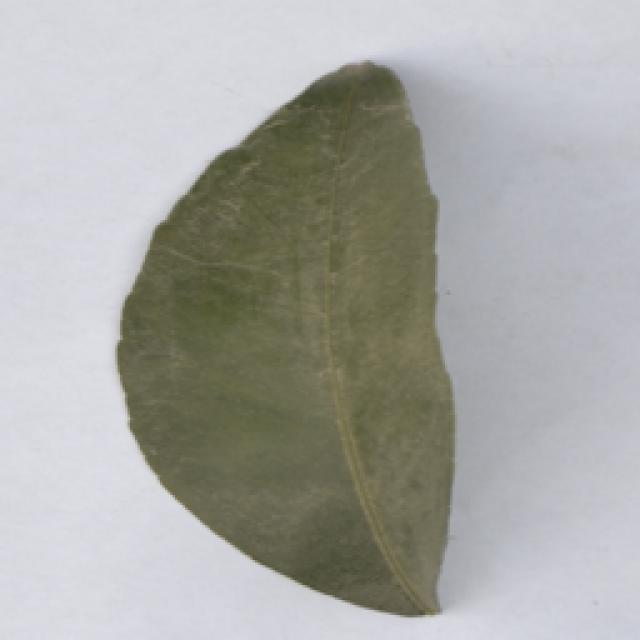healthy: (120, 61, 467, 619)
